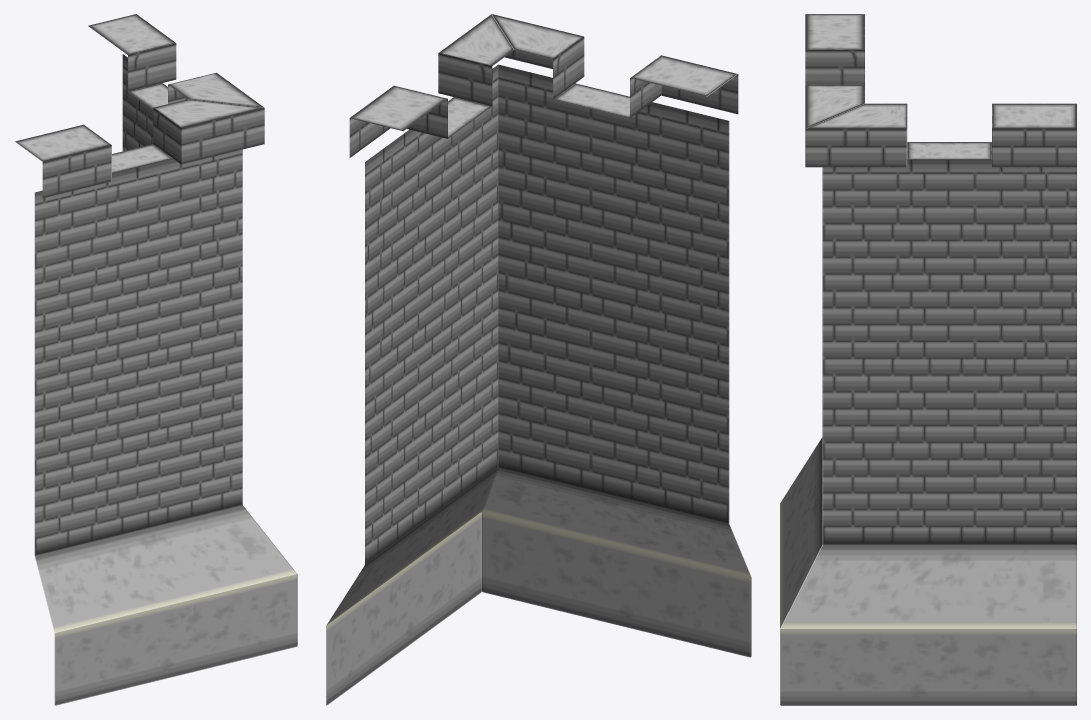
Rendered from Castle_Wall_1_L_Edge.fbx.
3 renders of one model, left to right at view 1: azimuth 30°, elevation 25°; view 2: azimuth 150°, elevation 25°; view 3: azimuth 270°, elevation 25°, orthographic. The views are drawn at different scales.
Parts seen in each view (by area): view 1: Castle_Wall_1; view 2: Castle_Wall_1; view 3: Castle_Wall_1.
Boxes of the visible parts, x1=… form: Castle_Wall_1: x1=15, y1=14, x2=297, y2=705; Castle_Wall_1: x1=326, y1=14, x2=751, y2=705; Castle_Wall_1: x1=780, y1=14, x2=1076, y2=705.
Bounding box in the file's own units: 700 × 1473 × 700.
1 material, 1 textured.
